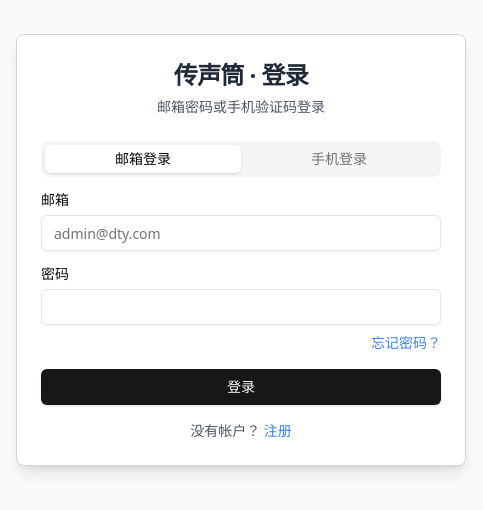
Test: Login Page › displays server error for unexpected errors
The image size is (483, 510).
In the field with placeholder "admin@dty.com": (241, 233) [41, 215, 441, 251], type "test@test.com"
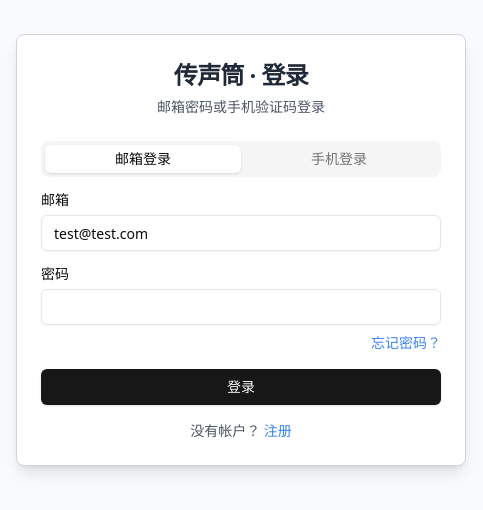
In the password field labelled "密码": (241, 307) [41, 289, 441, 325], type "password123"
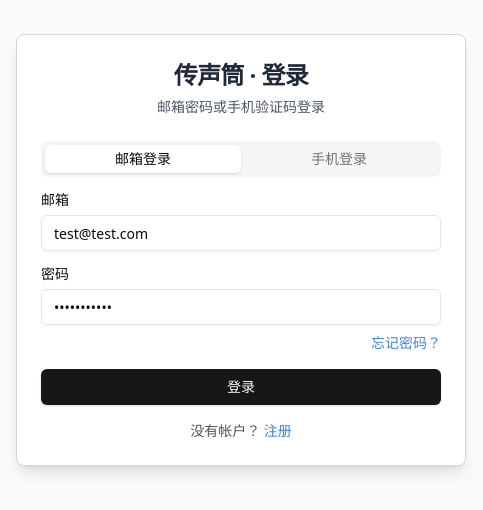
Click the button "登录": (241, 387) [41, 369, 441, 405]
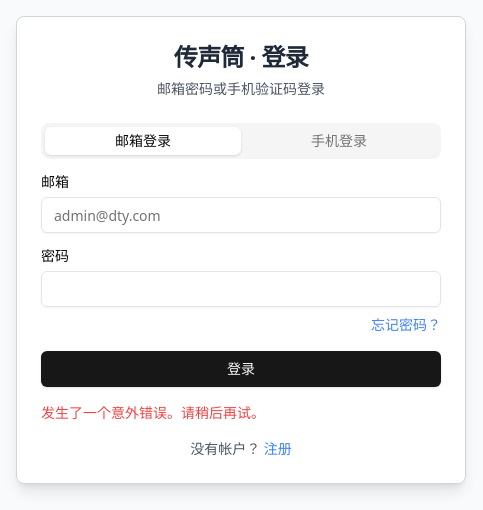
Expected: the text "发生了一个意外错误。请稍后再试。" is shown, [41, 403, 265, 422]
